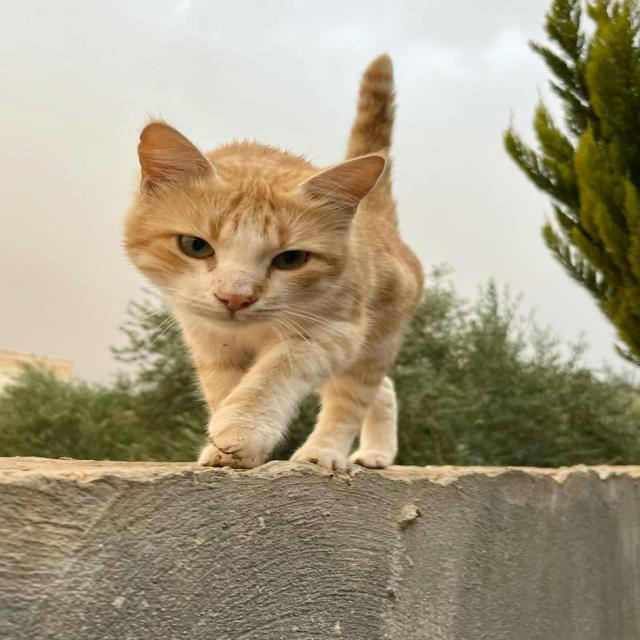sarman: (92, 0, 633, 580)
